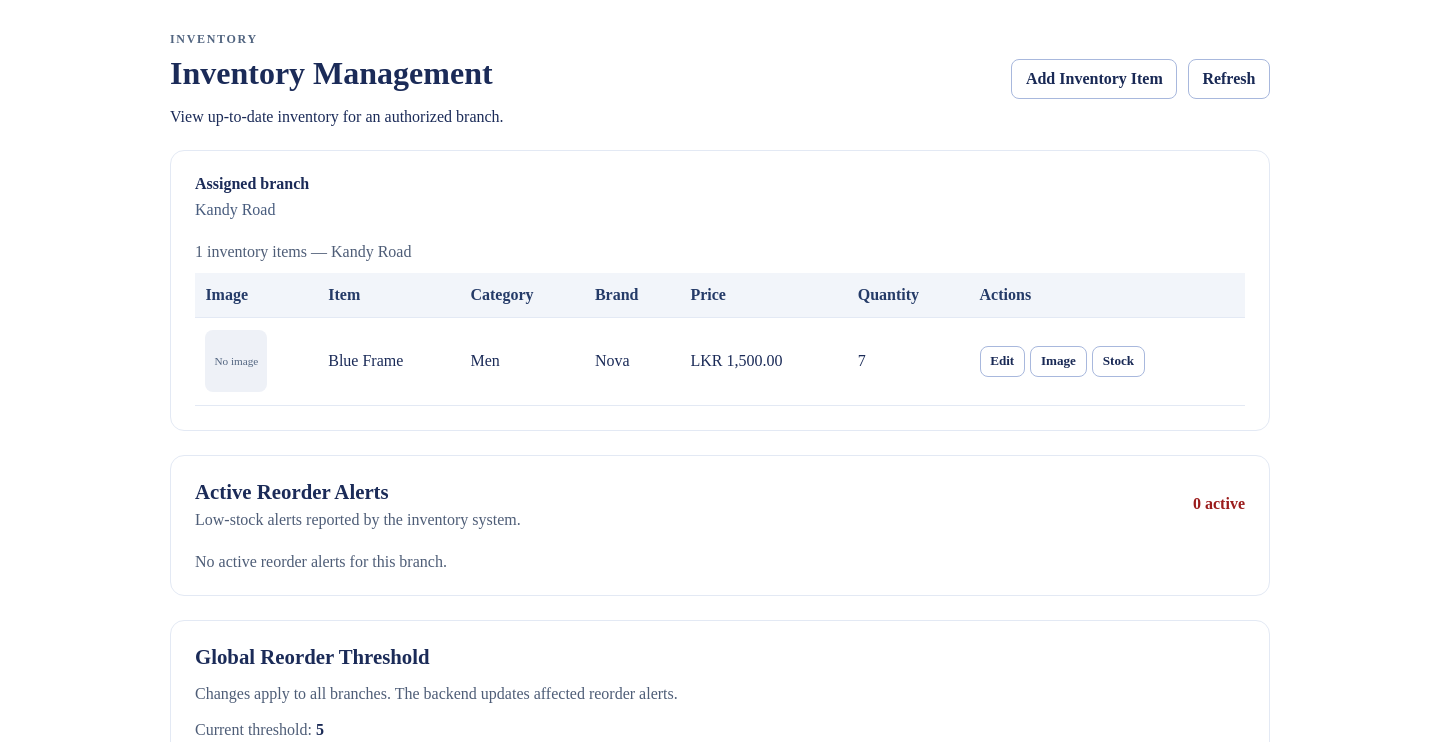
Test case: Inventory quantity management › lets Branch Manager set an absolute quantity and refreshes from backend after success
Click the button named "Update quantity for Blue Frame" at (1118,361), box [1092, 346, 1145, 377]
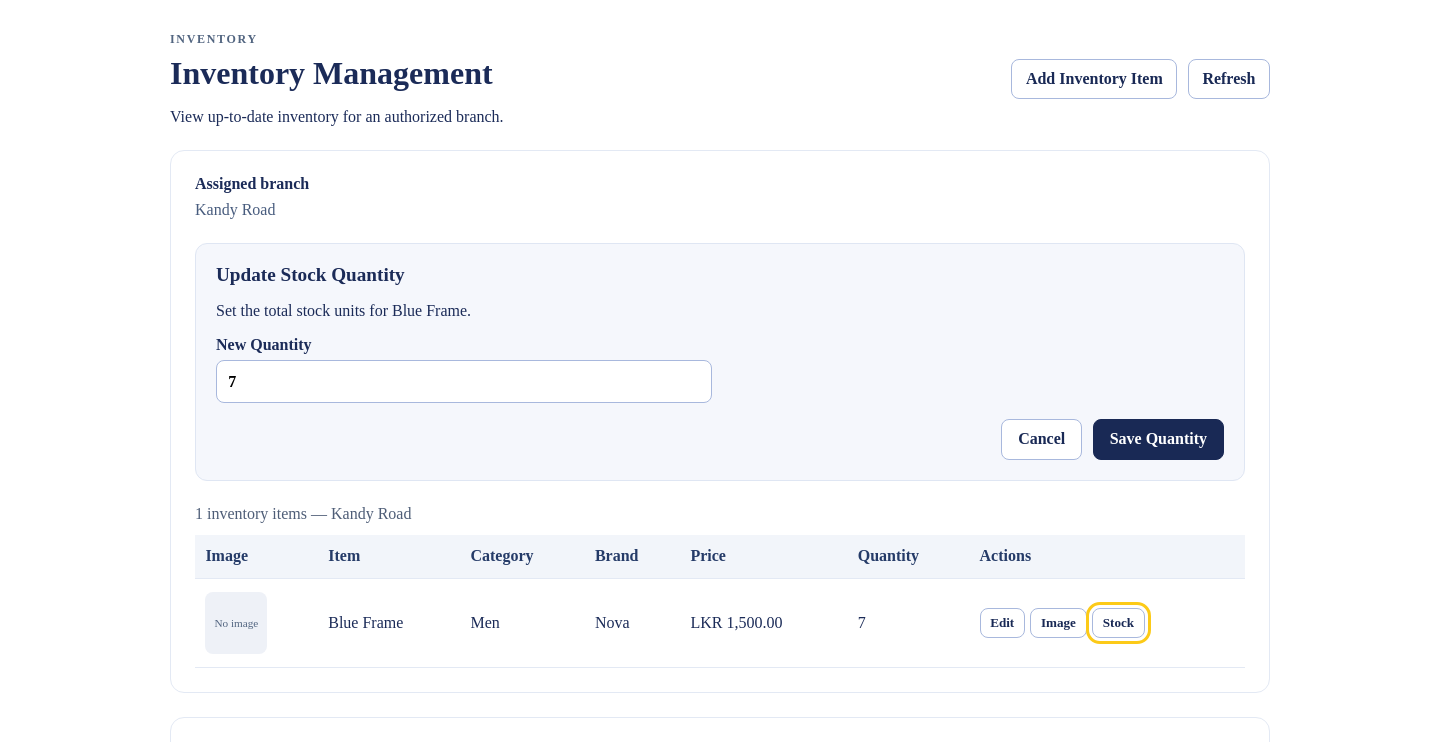
Expected: the number field labelled "New Quantity" holds "7"
Replace the text in the number field labelled "New Quantity" with "4" at (464,382), box [216, 360, 712, 403]
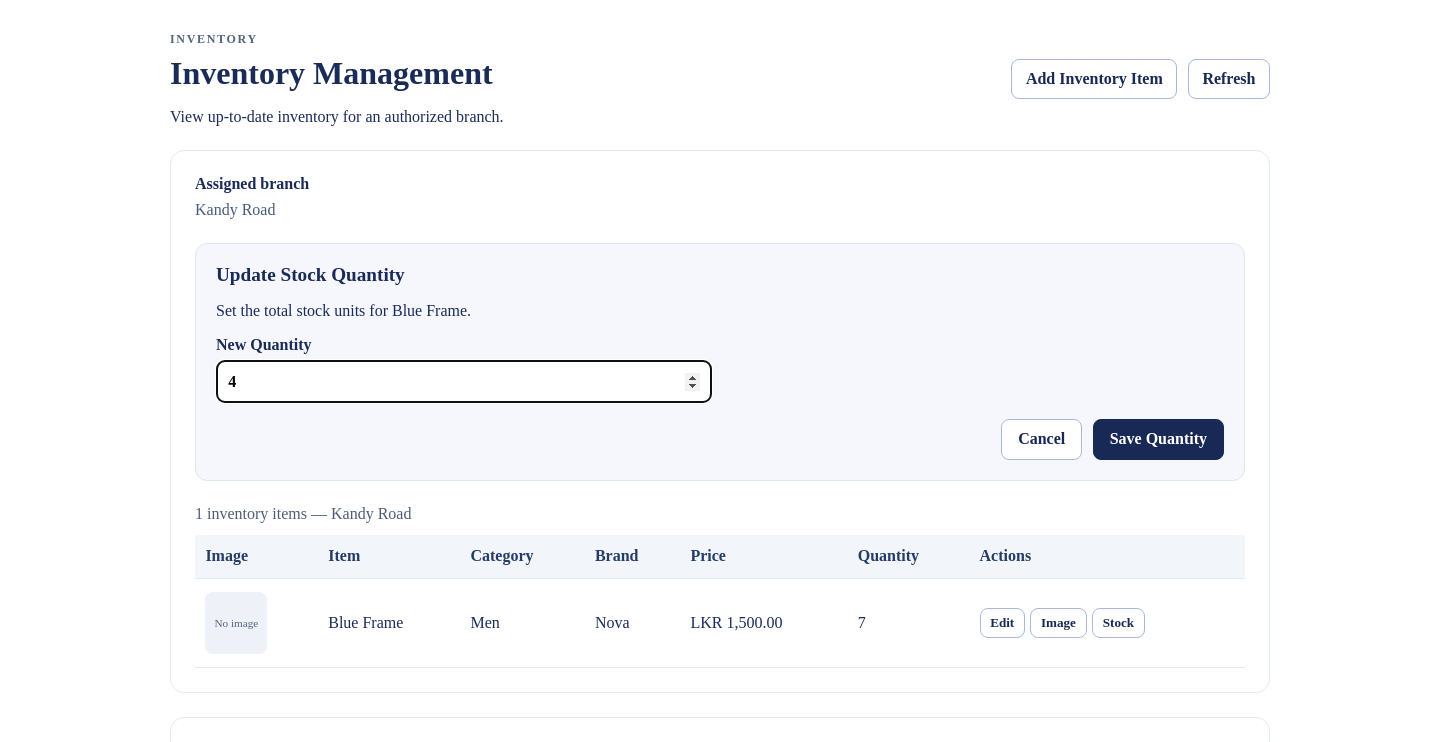
Click the button "Save Quantity" at (1158,439), box [1093, 419, 1224, 460]
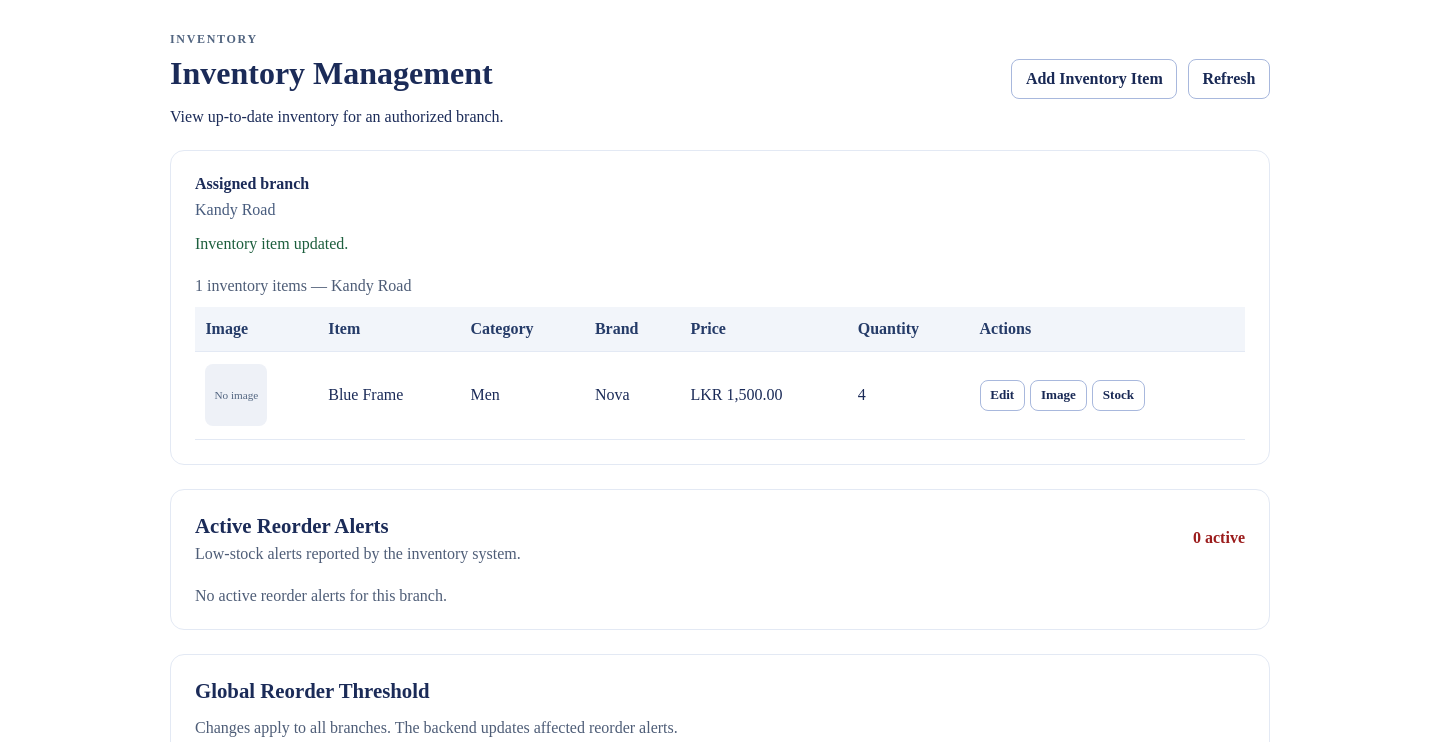
Expected: the text "4" is shown, [847, 351, 969, 440]
